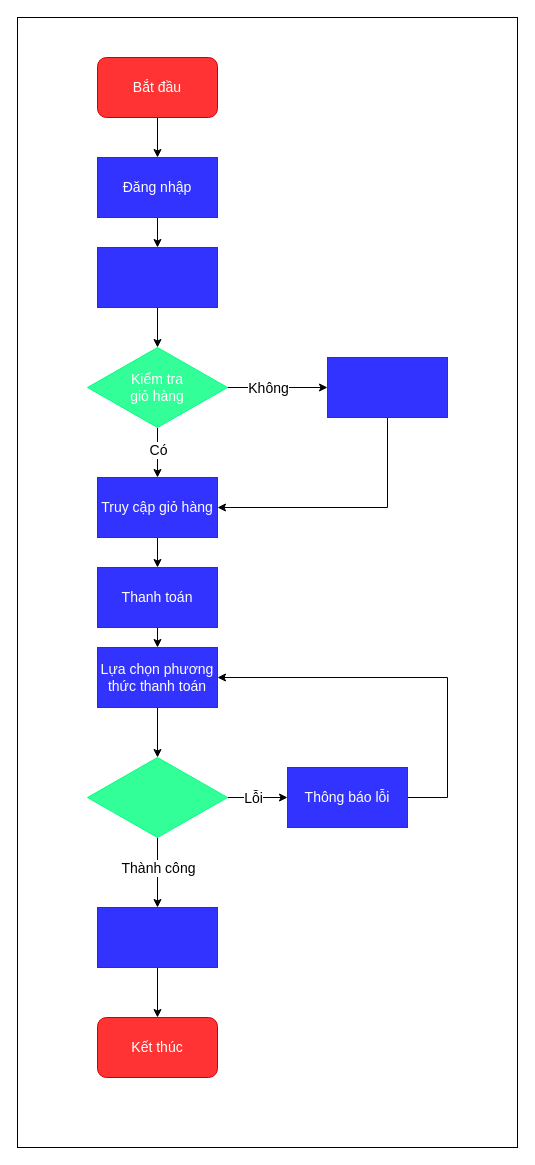
The diagram is 535 pixels wide and 1165 high, and some of its shapes have lost their labels. The shapes that lost their labels are listed below. From the top down, each one's box as (x1, y1, x2, y2) in pixels, then its label:
(96, 246, 218, 308): Chọn sản phẩm
(326, 356, 448, 418): Cập nhật giỏ hàng
(86, 756, 228, 838): Kiểm tra thanh toán
(96, 906, 218, 968): Cập nhật trạng thái đơn hàng
